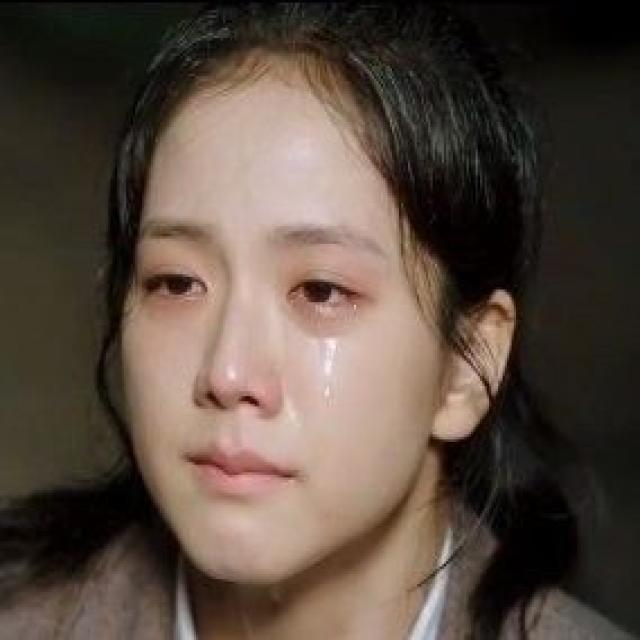sem_oculos: (95, 208, 472, 344)
